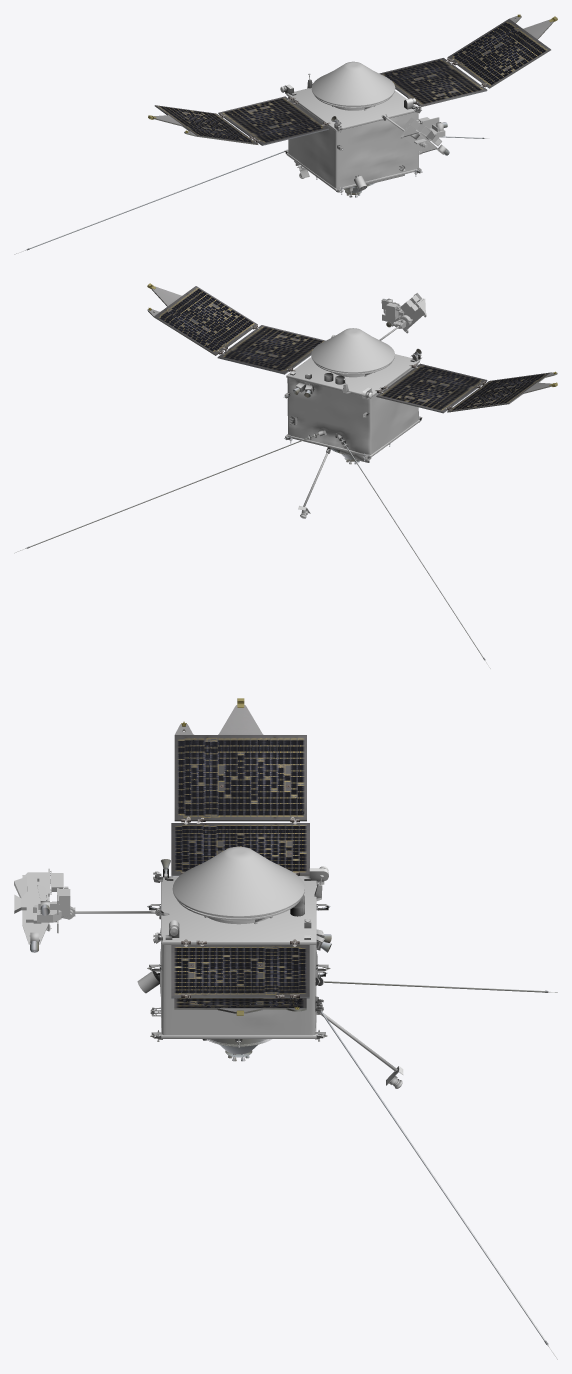
The model's file is Maven.fbx.
The picture shows the model from 3 angles, top to bottom: view 1: azimuth 30°, elevation 25°; view 2: azimuth 150°, elevation 25°; view 3: azimuth 270°, elevation 25°; orthographic projection. The views are drawn at different scales.
Parts seen in each view (by area): view 1: shiny_panel, foil_gold, foil_silver, tex_01, parts, dish_frame; view 2: shiny_panel, foil_gold, tex_01, foil_silver, parts; view 3: shiny_panel, foil_gold, foil_silver, parts, tex_01.
Boxes of the visible parts, bbox=[...] form: shiny_panel: bbox=[155, 19, 550, 144]; foil_gold: bbox=[286, 88, 446, 190]; foil_silver: bbox=[311, 61, 395, 105]; tex_01: bbox=[14, 15, 553, 254]; parts: bbox=[148, 14, 557, 197]; dish_frame: bbox=[311, 89, 395, 110]; shiny_panel: bbox=[154, 286, 550, 411]; foil_gold: bbox=[286, 298, 419, 506]; tex_01: bbox=[14, 286, 557, 668]; foil_silver: bbox=[311, 328, 394, 372]; parts: bbox=[147, 283, 557, 518]; shiny_panel: bbox=[171, 735, 309, 1008]; foil_gold: bbox=[30, 876, 397, 1071]; foil_silver: bbox=[172, 846, 304, 916]; parts: bbox=[14, 698, 403, 1088]; tex_01: bbox=[30, 705, 557, 1359].
Size of the model in its own units: 1313 by 542 by 822.
